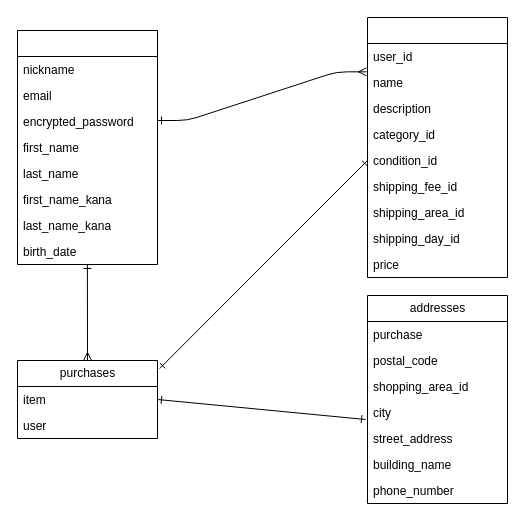
The diagram is 525 pixels wide and 524 high, and some of its shapes have lost their labels. Each missing label, with the box of its shape:
items: (366, 16, 508, 278)
users: (16, 30, 158, 264)
